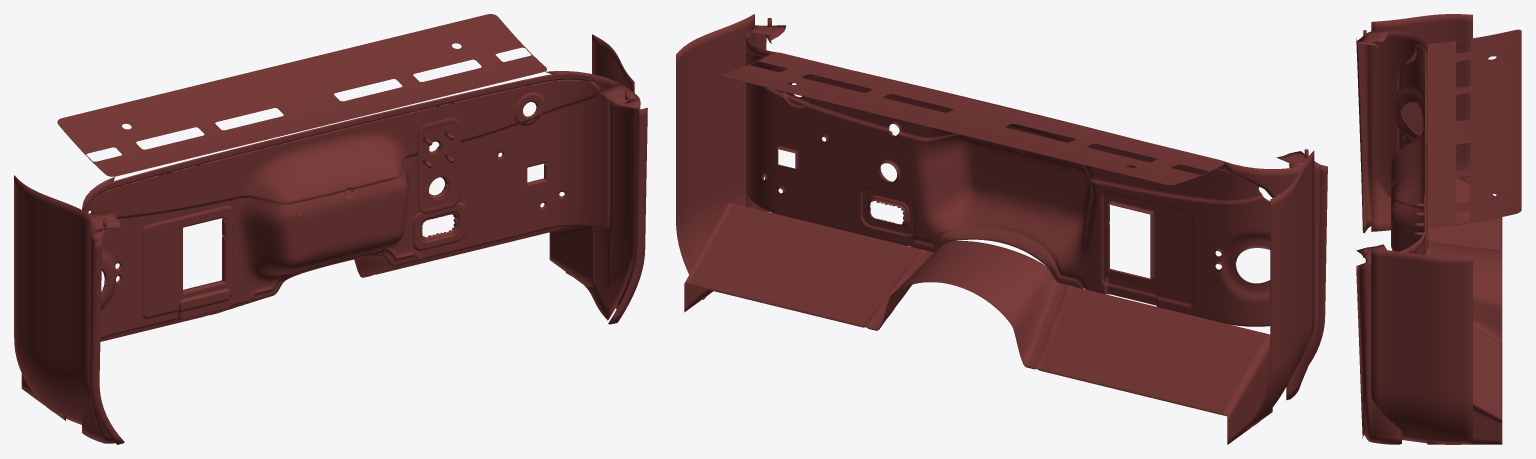
The model's file is k5-firewall.glb.
3 views of the same model, side by side, from view 1: azimuth 30°, elevation 25°; view 2: azimuth 150°, elevation 25°; view 3: azimuth 270°, elevation 25° (orthographic). The views are drawn at different scales.
Visible parts, largest first — view 1: firewall_dash, cowl_plenum, cowl_side_L, cowl_side_R, firewall_toe_board, pinch_flange, booster_plate; view 2: firewall_dash, firewall_toe_board, cowl_plenum, cowl_side_R, cowl_side_L; view 3: cowl_side_R, cowl_plenum, cowl_side_L, firewall_toe_board, firewall_dash, pinch_flange, booster_plate.
Boxes of the visible parts, bbox=[...] form: firewall_dash: bbox=[89, 79, 609, 339]; cowl_plenum: bbox=[57, 14, 546, 176]; cowl_side_L: bbox=[14, 175, 124, 444]; cowl_side_R: bbox=[545, 34, 647, 324]; firewall_toe_board: bbox=[21, 226, 593, 420]; pinch_flange: bbox=[89, 73, 594, 208]; booster_plate: bbox=[417, 117, 460, 213]; firewall_dash: bbox=[746, 48, 1270, 326]; firewall_toe_board: bbox=[684, 202, 1272, 444]; cowl_plenum: bbox=[720, 52, 1224, 185]; cowl_side_R: bbox=[676, 14, 786, 299]; cowl_side_L: bbox=[1223, 149, 1327, 429]; cowl_side_R: bbox=[1356, 226, 1472, 444]; cowl_plenum: bbox=[1427, 29, 1521, 227]; cowl_side_L: bbox=[1356, 14, 1472, 232]; firewall_toe_board: bbox=[1427, 177, 1502, 444]; firewall_dash: bbox=[1391, 45, 1429, 255]; pinch_flange: bbox=[1406, 40, 1425, 252]; booster_plate: bbox=[1414, 193, 1424, 235].
Size of the model in its own units: 1.76 by 0.7237 by 0.5076.
